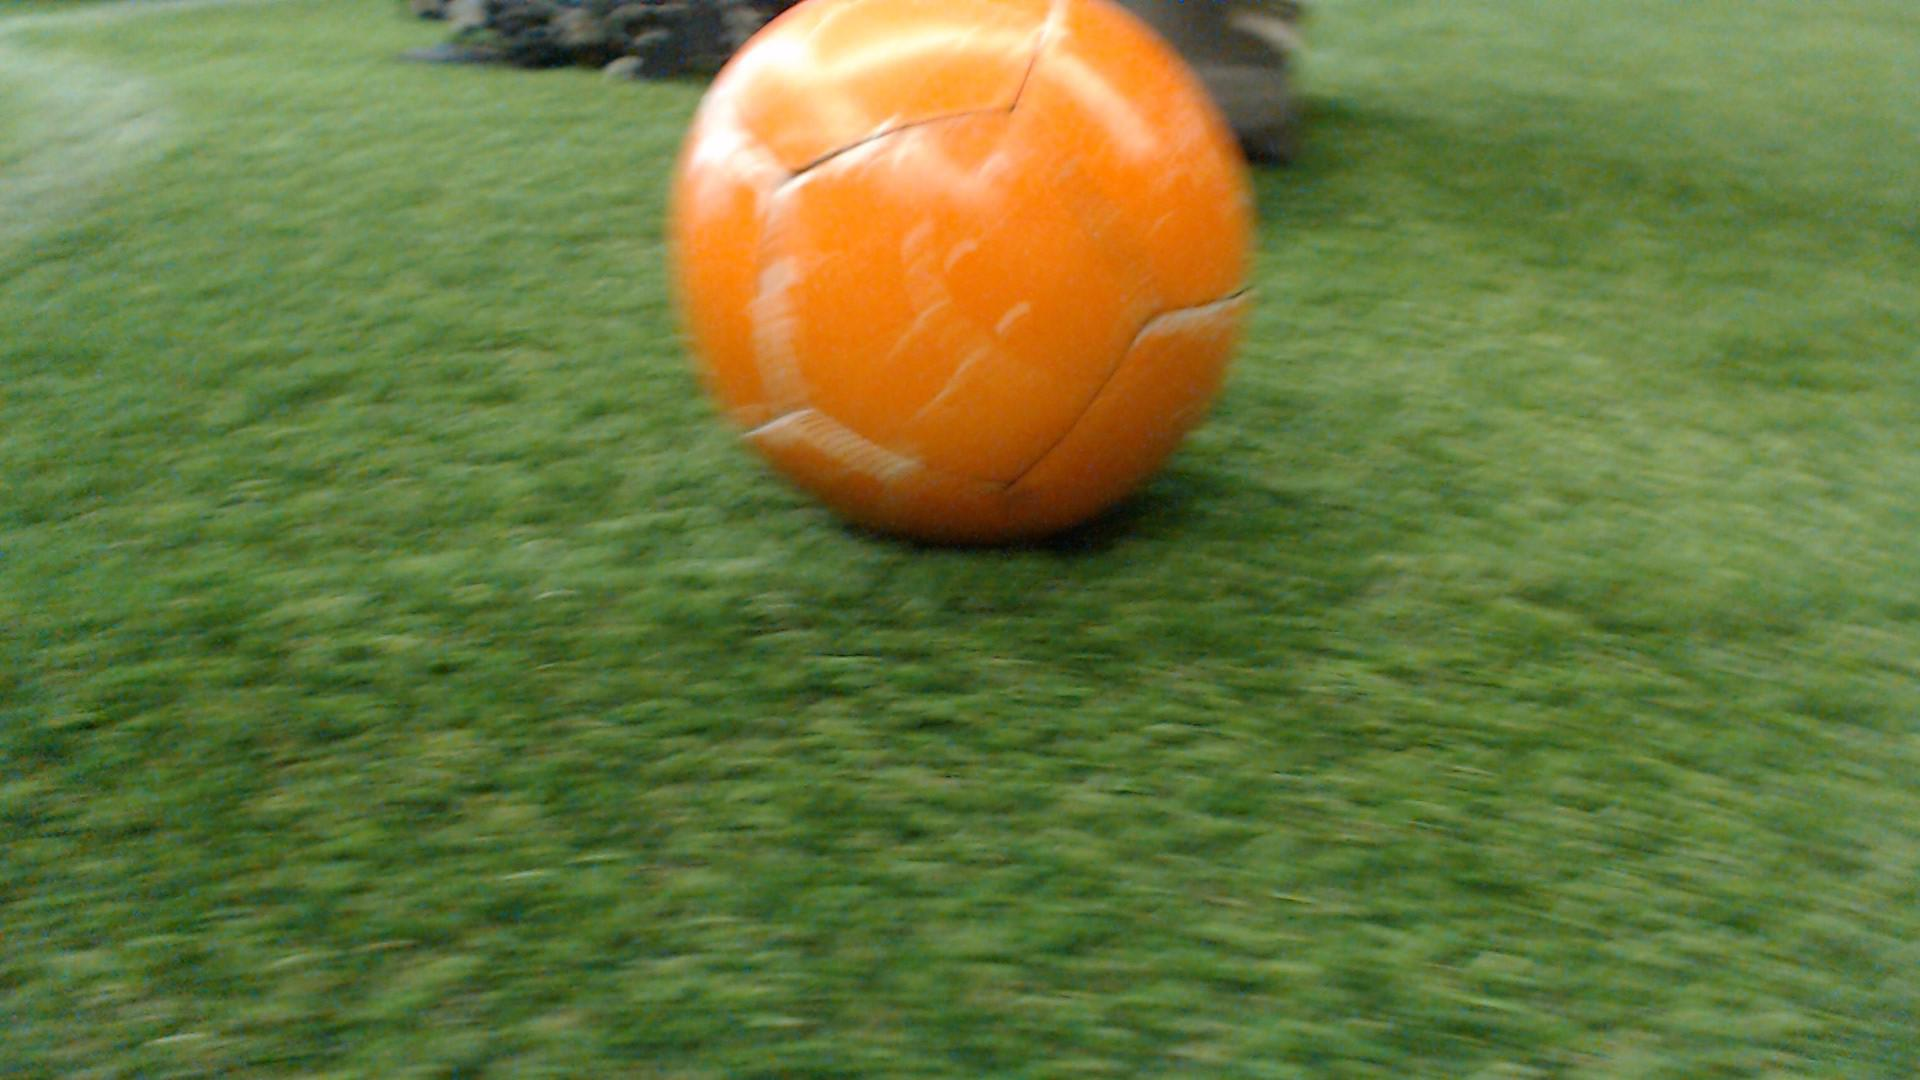bola: (647, 0, 1307, 579)
